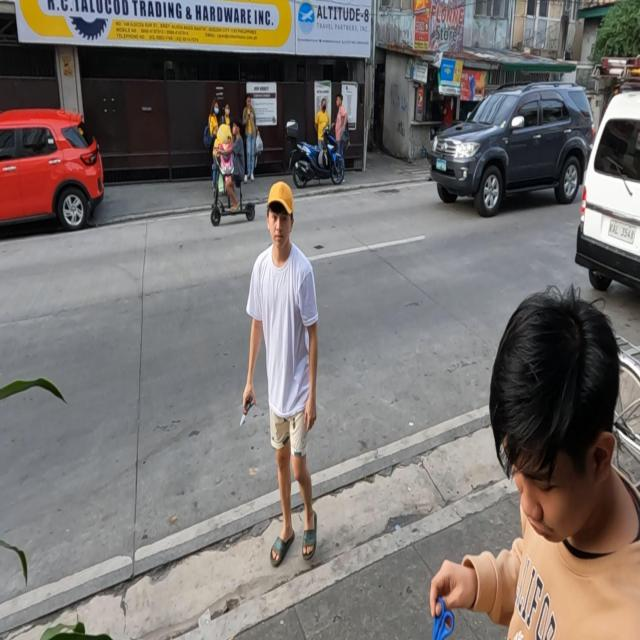scissor: (432, 597, 455, 640), (240, 396, 255, 427)
